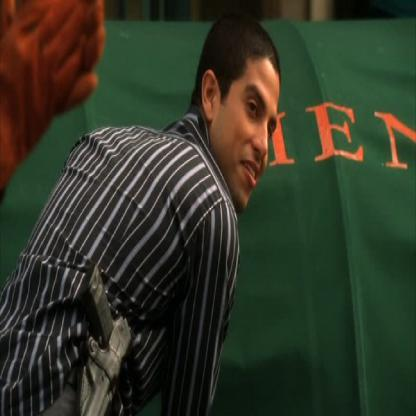Guns: (70, 256, 130, 415)
